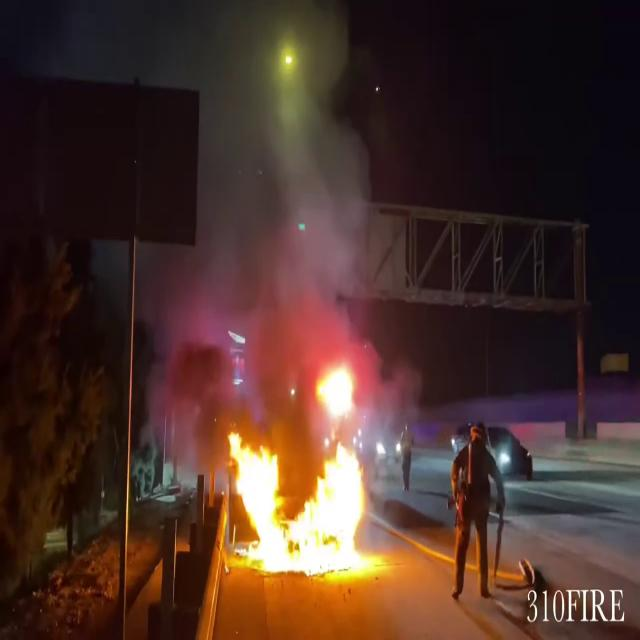Fire: (225, 347, 373, 581), (225, 419, 371, 581)
Smoke: (150, 7, 388, 457)
